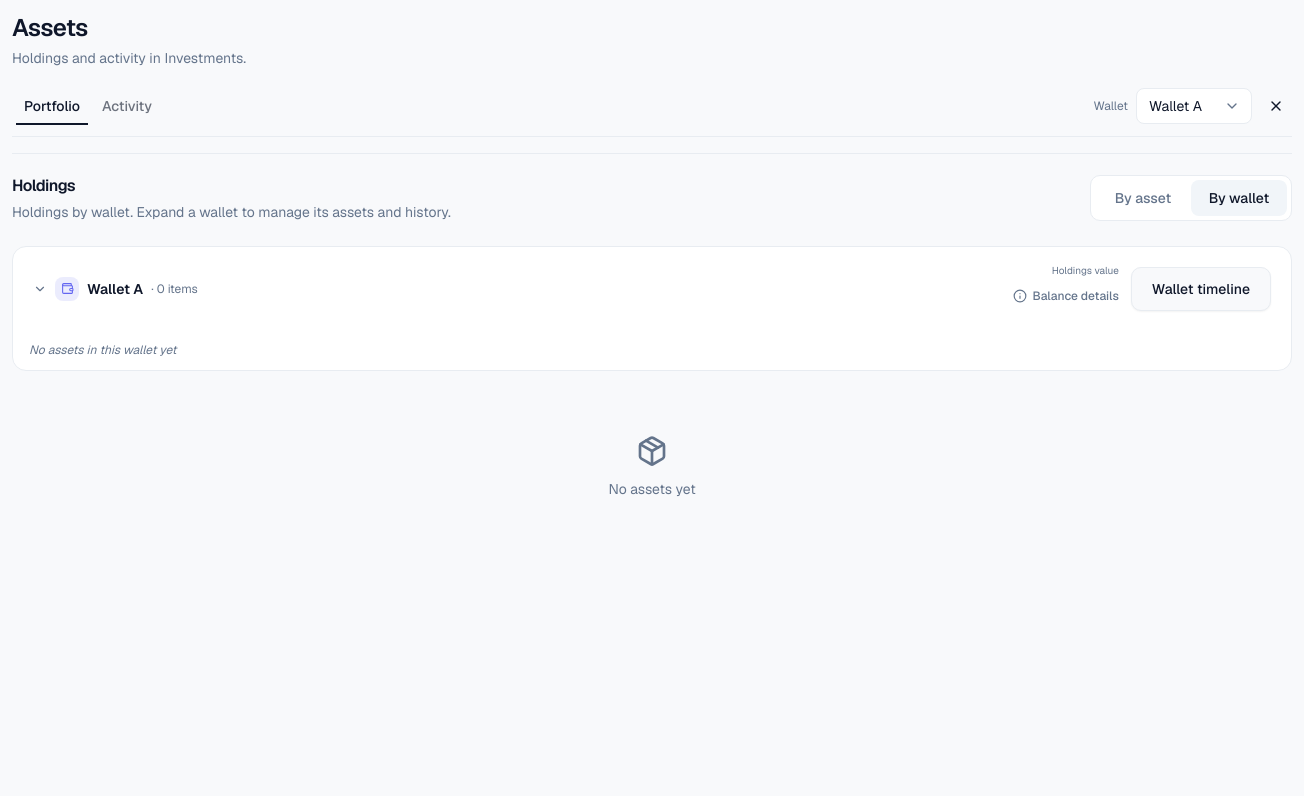
opens wallet history without requiring a current holding
The width and height of the screenshot is (1304, 796).
Click the button "Wallet timeline" at x=1201, y=288, box [1131,266,1271,310]
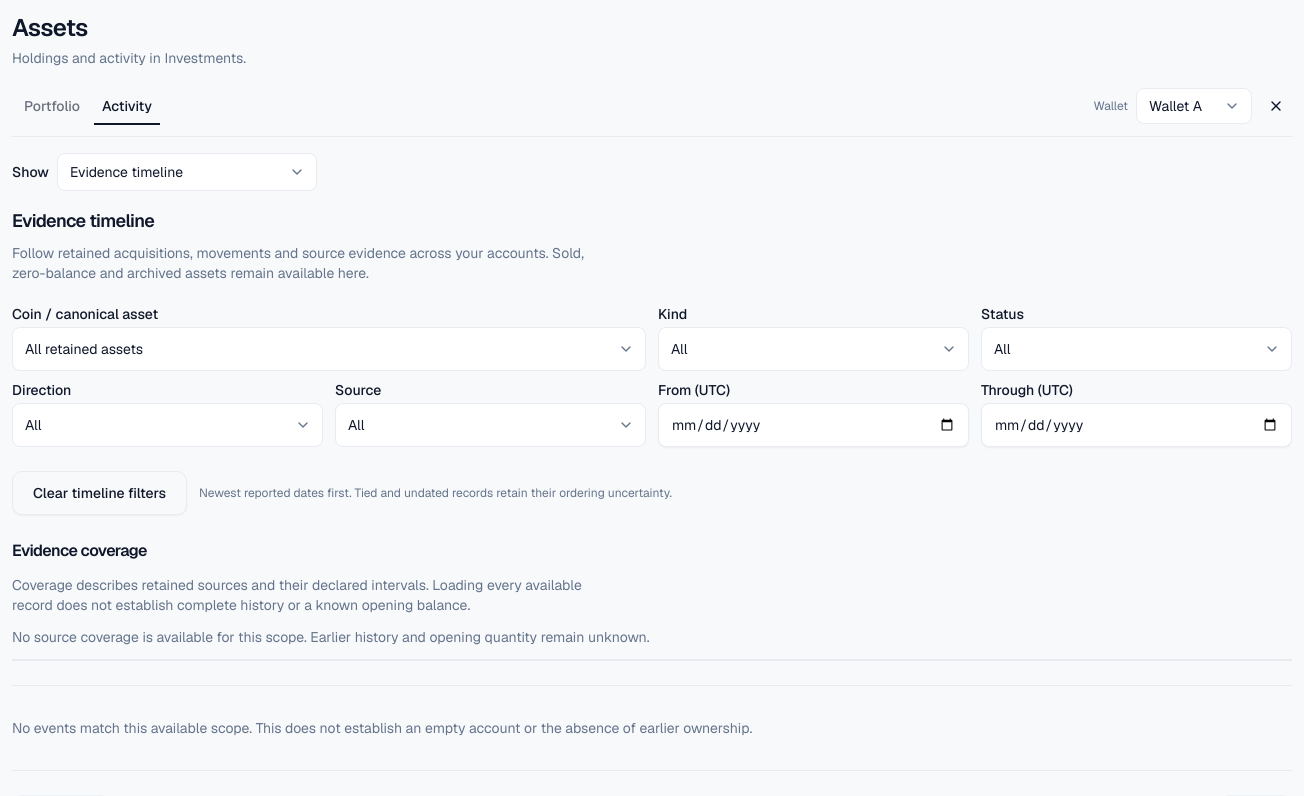
Expected: the text "No events match this available scope" is shown, [12,719,752,737]
